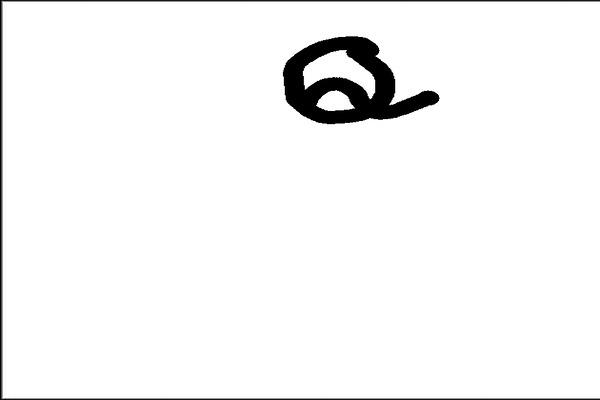Q: (276, 21, 445, 128)
